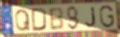9: (66, 6, 80, 32)
B: (48, 7, 65, 32)
D: (31, 7, 48, 32)
G: (99, 4, 116, 29)
J: (85, 6, 97, 29)
Q: (15, 9, 31, 33)
